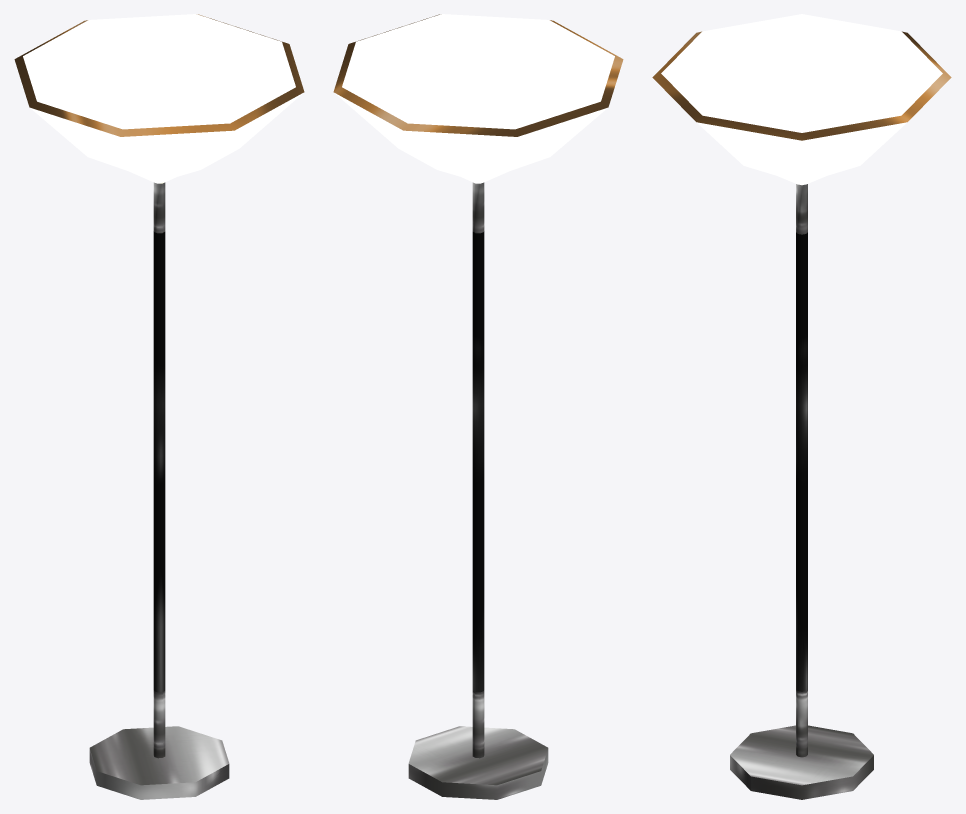
The model's file is lamp_floorB.fbx.
3 views of the same model, side by side, from view 1: azimuth 30°, elevation 25°; view 2: azimuth 150°, elevation 25°; view 3: azimuth 270°, elevation 25° (orthographic).
Visible parts, largest first — view 1: lamp_floorB; view 2: lamp_floorB; view 3: lamp_floorB.
Boxes of the visible parts, left/top/right/bottom form: lamp_floorB: left=14, top=14, right=304, bottom=799; lamp_floorB: left=333, top=14, right=623, bottom=799; lamp_floorB: left=652, top=14, right=951, bottom=799.
Bounding box in the file's own units: 77.21 × 198 × 77.21.
1 material, 1 textured.
